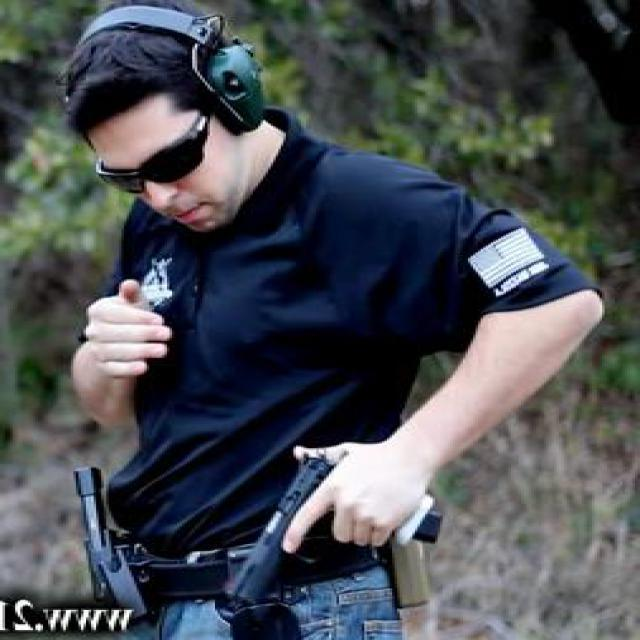Gun: (225, 432, 450, 602)
